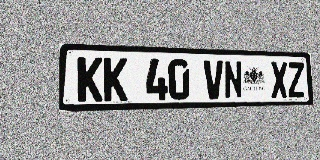0: (168, 59, 190, 100)
4: (146, 58, 168, 100)
K: (77, 57, 103, 102), (104, 57, 127, 101)
N: (224, 60, 243, 99)
V: (204, 60, 224, 99)
X: (271, 62, 288, 98)
Z: (288, 62, 304, 98)
